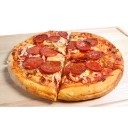pepperonipizza: (9, 31, 123, 101)
